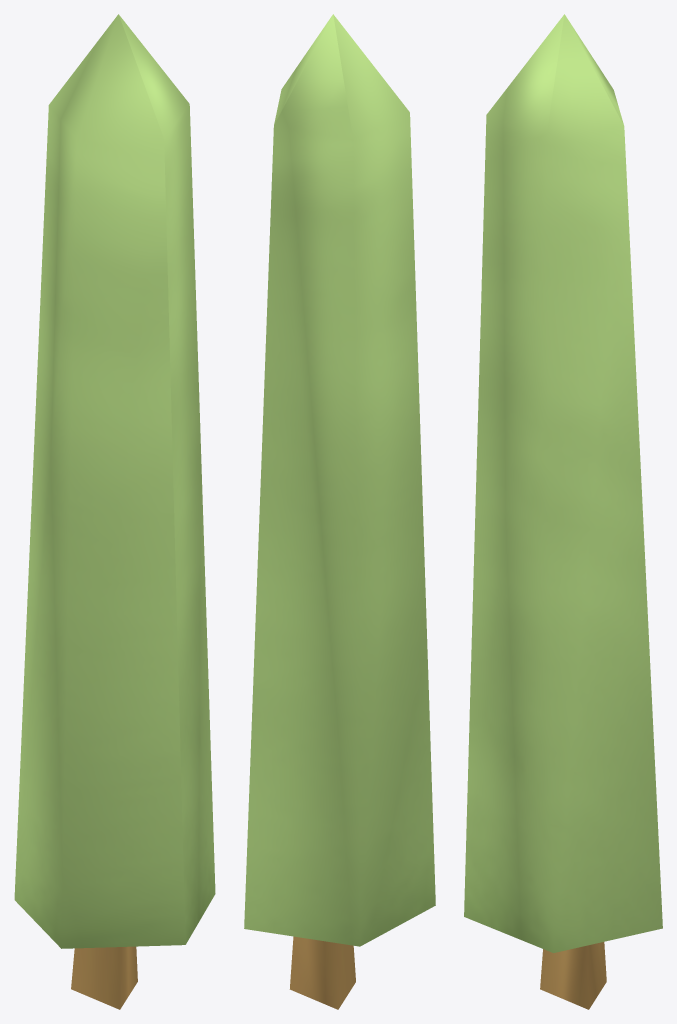
The picture shows the model from 3 angles, left to right: view 1: azimuth 30°, elevation 25°; view 2: azimuth 150°, elevation 25°; view 3: azimuth 270°, elevation 25°; orthographic projection.
Visible parts, largest first — view 1: LOD2tuya; view 2: LOD2tuya; view 3: LOD2tuya.
Part boxes in pixels (x1,y1,x2,y2): LOD2tuya: (14,14,215,1009); LOD2tuya: (244,14,435,1009); LOD2tuya: (464,14,662,1009).
Size of the model in its own units: 3.67 by 20.1 by 3.69.
Materials: 1 (1 with a texture image).
